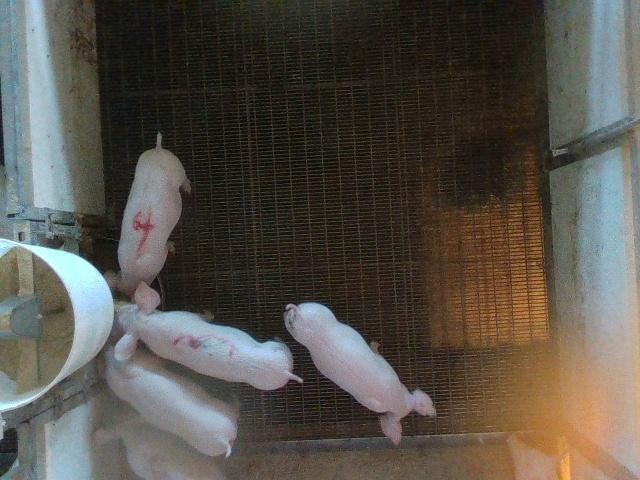pig-3: (114, 281, 302, 390)
pig-4: (104, 132, 191, 296)
